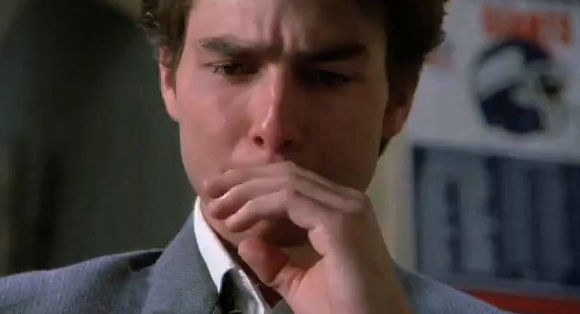face: (171, 1, 395, 242)
